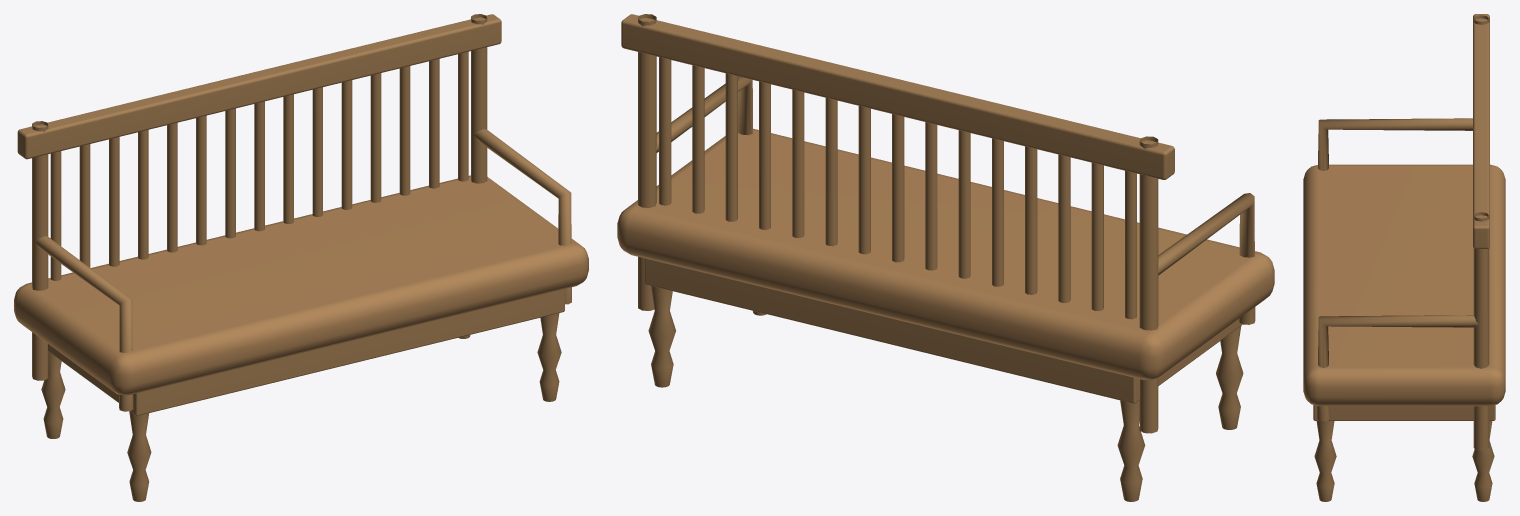
The model's file is wh-traditional-arabic-chair.glb.
3 views of the same model, side by side, from view 1: azimuth 30°, elevation 25°; view 2: azimuth 150°, elevation 25°; view 3: azimuth 270°, elevation 25° (orthographic). The views are drawn at different scales.
Parts seen in each view (by area): view 1: Bench upholstered top.002, Turned table leg.016; view 2: Turned table leg.016, Bench upholstered top.002; view 3: Bench upholstered top.002, Turned table leg.016.
Part boxes in pixels (left/top/right/bottom): Bench upholstered top.002: left=14, top=175, right=588, bottom=395; Turned table leg.016: left=17, top=14, right=571, bottom=501; Turned table leg.016: left=621, top=14, right=1255, bottom=501; Bench upholstered top.002: left=617, top=128, right=1274, bottom=379; Bench upholstered top.002: left=1303, top=164, right=1505, bottom=406; Turned table leg.016: left=1313, top=14, right=1495, bottom=501.
Size of the model in its own units: 1.5 by 0.95 by 0.6.
